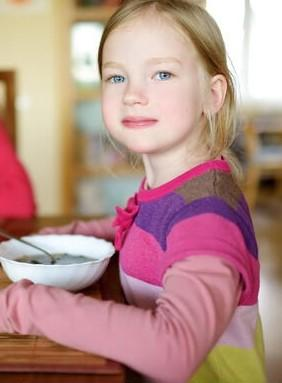Healthy: (88, 3, 239, 189)
